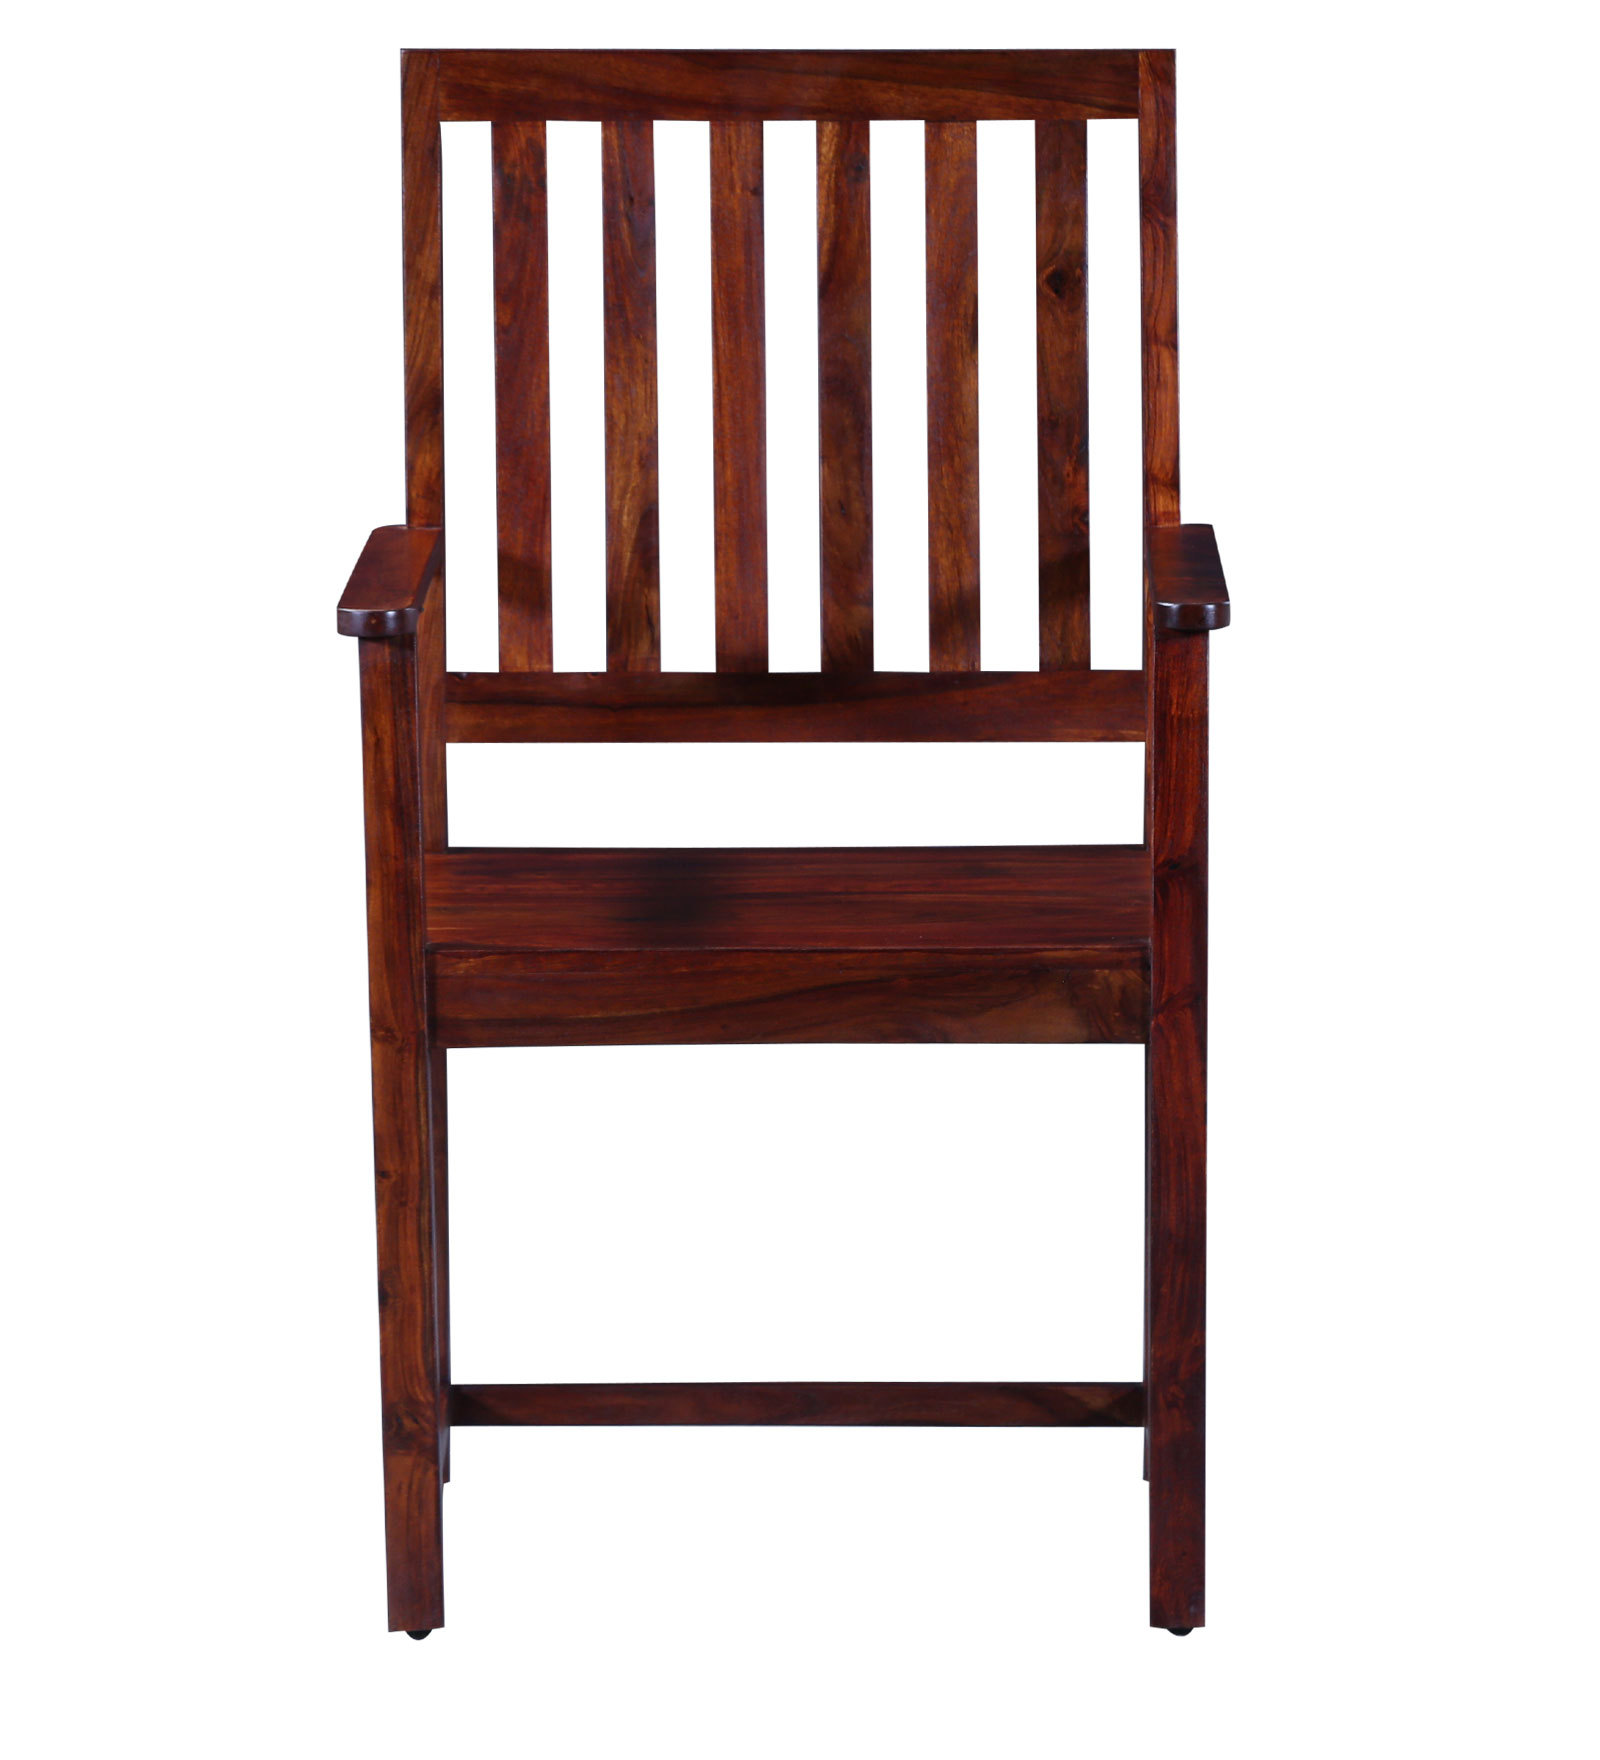Abbey Arm Chair in Honey Oak Finish by Woodsworth: (322, 23, 1252, 1656)
